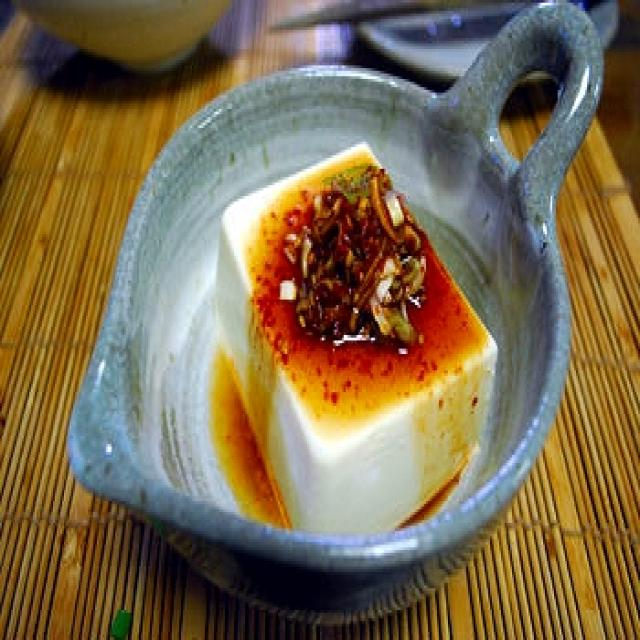豆腐料理: (210, 131, 496, 534)
